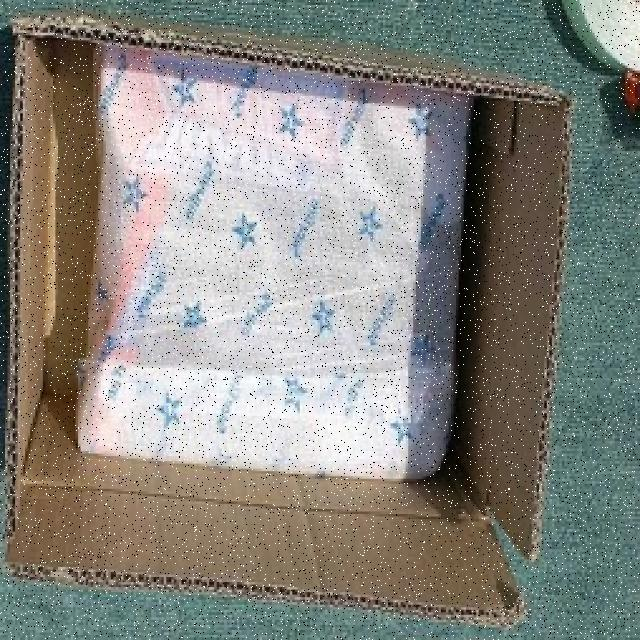box: (0, 35, 580, 608)
